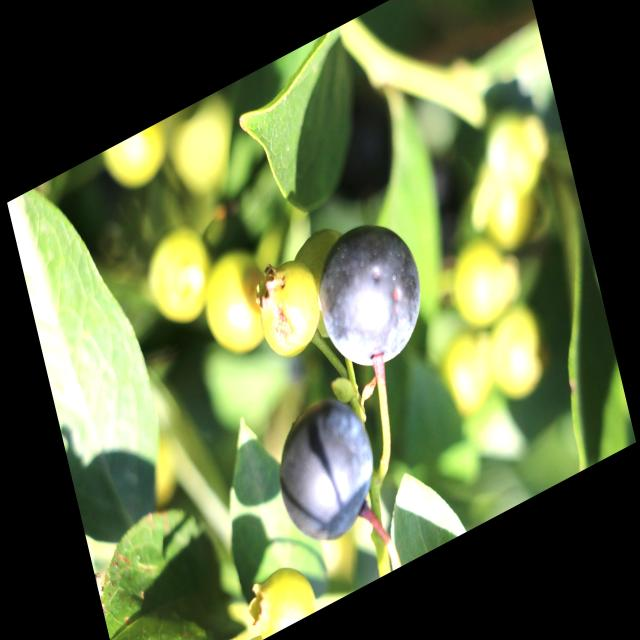blueberry: (262, 373, 392, 563), (308, 202, 435, 388)
blueberry-unripe: (250, 246, 330, 370), (197, 246, 277, 366), (141, 223, 215, 337), (242, 552, 318, 640)
